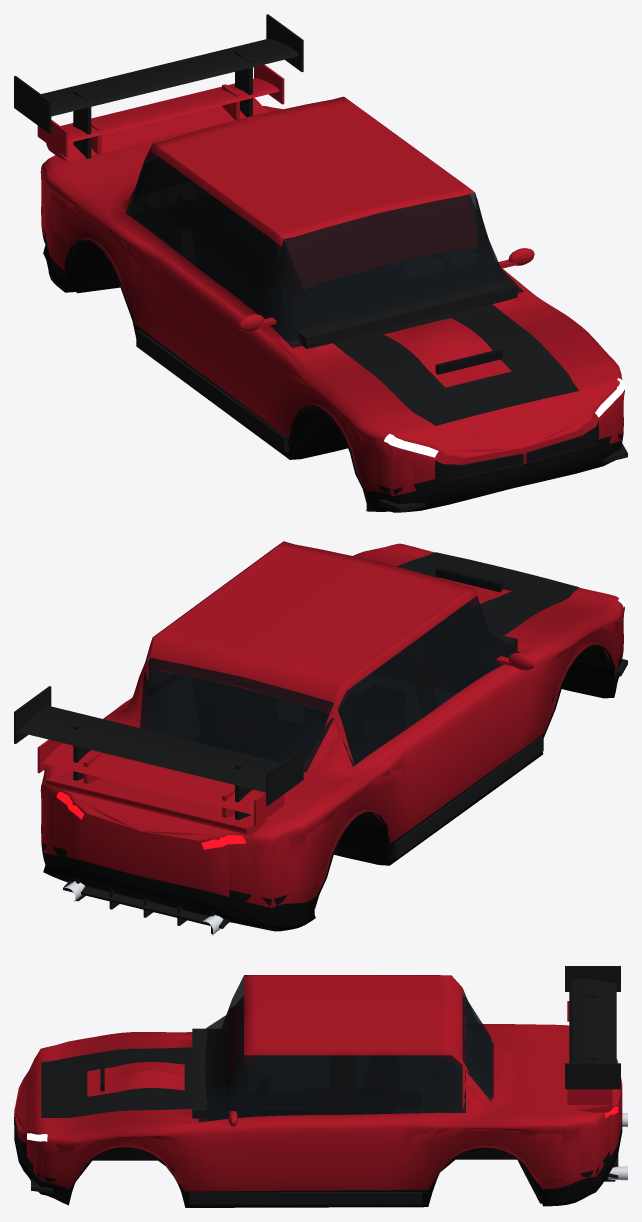
Rendered from sr_bmw_m3_e30.glb.
The picture shows the model from 3 angles, top to bottom: view 1: azimuth 30°, elevation 25°; view 2: azimuth 150°, elevation 25°; view 3: azimuth 270°, elevation 25°; orthographic projection. The views are drawn at different scales.
Parts seen in each view (by area): view 1: body (×2), hood_3, spoiler_3, spoiler_2, interior, hood_1, bumper_1, spoiler_1, grille, mirrors, hood_1_intake; view 2: body (×2), spoiler_3, spoiler_2, hood_3, bumper_1, spoiler_1, hood_1_intake; view 3: body (×2), hood_3, spoiler_3, bumper_1, hood_1, interior, spoiler_2.
Boxes of the visible parts, x1,y1,x2,y2 form: body (×2): (40,96,624,512); hood_3: (332,304,578,425); spoiler_3: (14,14,303,158); spoiler_2: (37,64,284,157); interior: (297,279,517,348); hood_1: (383,318,511,387); bumper_1: (137,330,627,512); spoiler_1: (46,97,268,161); grille: (435,421,598,484); mirrors: (238,248,534,331); hood_1_intake: (435,349,502,374); body (×2): (40,541,624,931); spoiler_3: (14,686,303,819); spoiler_2: (37,739,284,825); hood_3: (397,552,579,635); bumper_1: (63,659,627,933); spoiler_1: (45,770,268,835); hood_1_intake: (435,566,502,592); body (×2): (14,975,622,1207); hood_3: (41,1047,192,1117); spoiler_3: (565,966,620,1089); bumper_1: (31,1155,618,1204); hood_1: (87,1062,184,1096); interior: (192,1028,207,1118); spoiler_2: (567,1001,611,1104).
Size of the model in its own units: 1.93 by 1.2 by 4.39.
